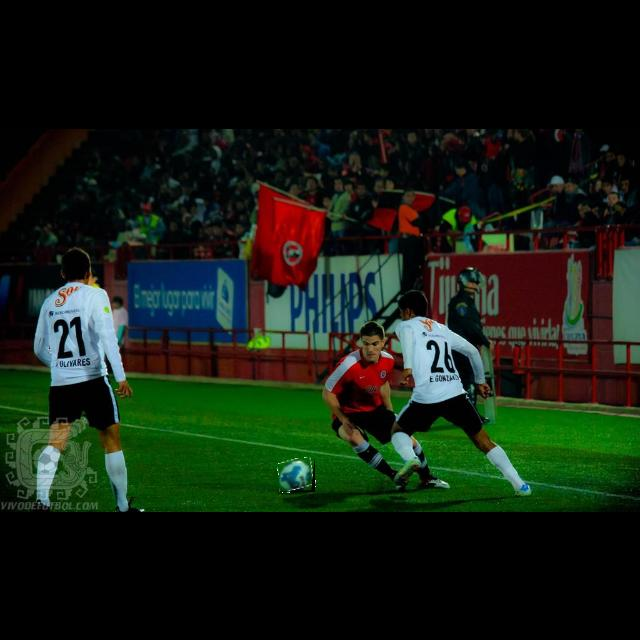Football: (279, 458, 315, 492)
